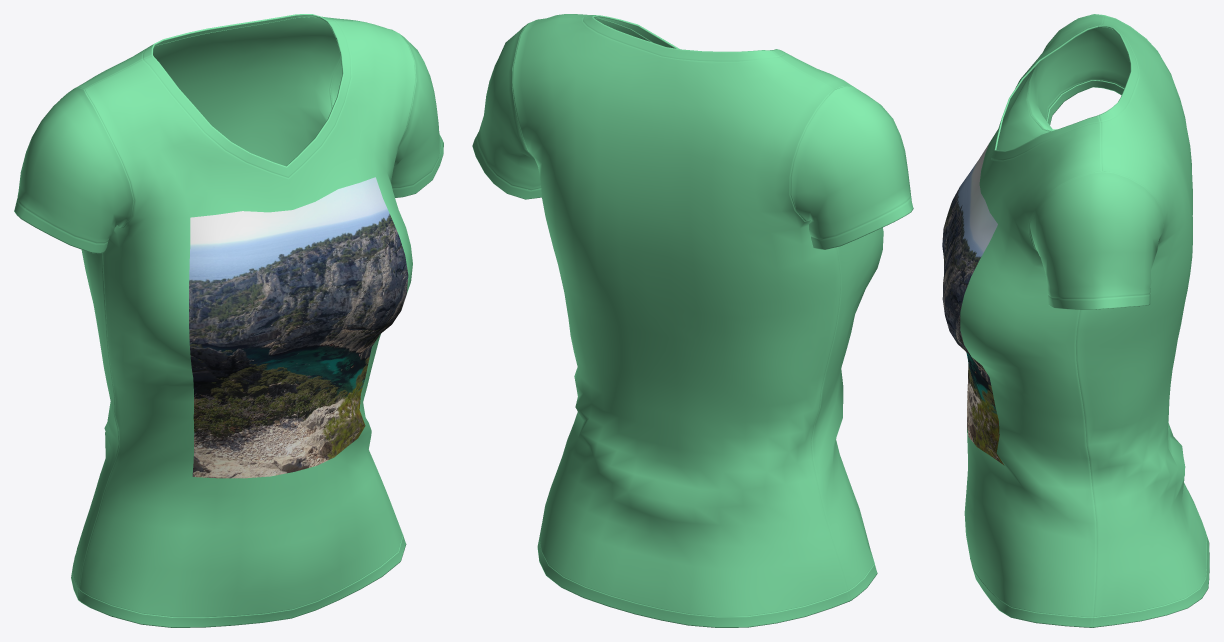
Rendered from tshirt-woman.gltf.
3 views of the same model, side by side, from view 1: azimuth 30°, elevation 25°; view 2: azimuth 150°, elevation 25°; view 3: azimuth 270°, elevation 25° (orthographic). The views are drawn at different scales.
Parts seen in each view (by area): view 1: tshirt-woman; view 2: tshirt-woman; view 3: tshirt-woman.
Boxes of the visible parts, x1,y1,x2,y2 form: tshirt-woman: (14, 14, 443, 627); tshirt-woman: (472, 14, 913, 627); tshirt-woman: (942, 14, 1209, 627).
Size of the model in its own units: 43.45 by 52.52 by 24.92.
2 materials, 1 textured.
